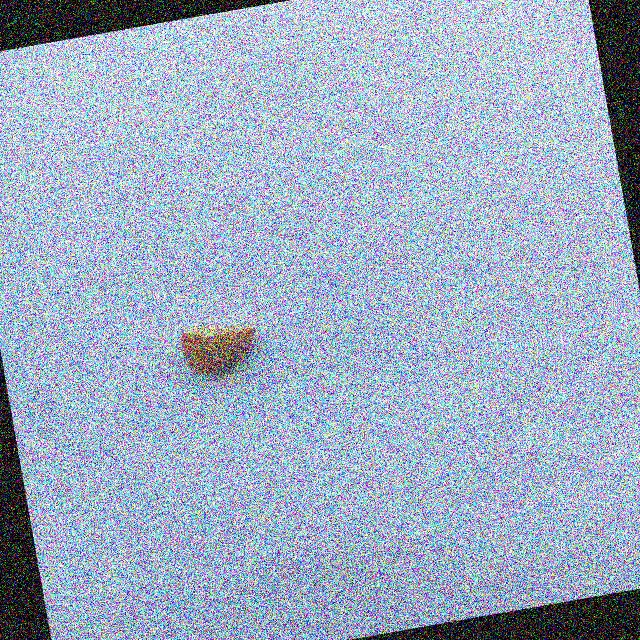grade4: (171, 309, 271, 387)
